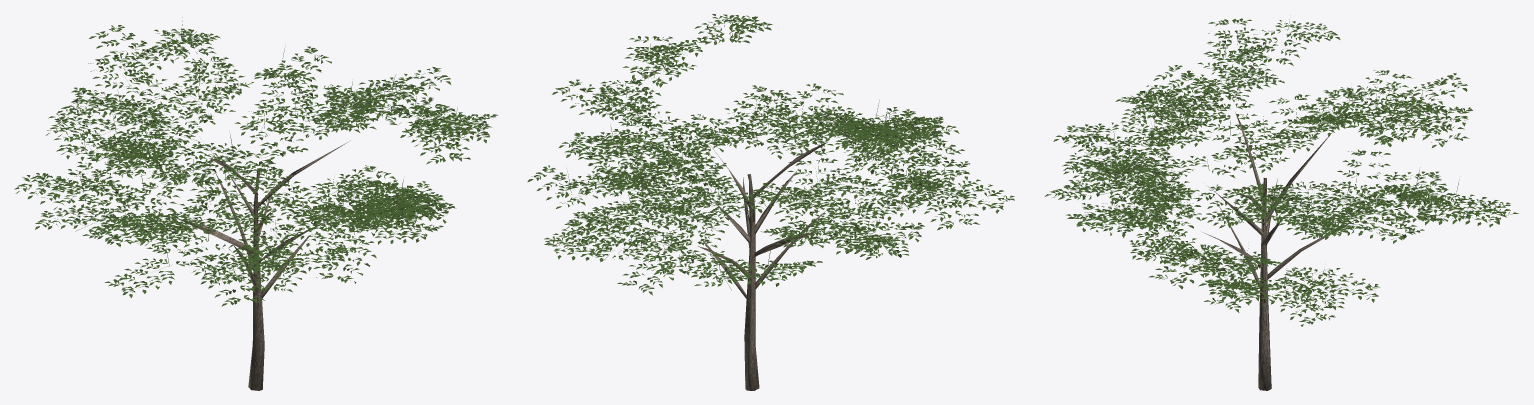
File: koelreuteria-4.glb
The picture shows the model from 3 angles, left to right: view 1: azimuth 30°, elevation 25°; view 2: azimuth 150°, elevation 25°; view 3: azimuth 270°, elevation 25°; orthographic projection. The views are drawn at different scales.
Visible parts, largest first — view 1: leaf, leaf-edge, bark, leaf-back, stem; view 2: leaf, leaf-edge, bark, leaf-back, stem; view 3: leaf, leaf-edge, bark, leaf-back, stem.
Boxes of the visible parts, left/top/right/bottom form: leaf: left=15, top=25, right=498, bottom=306; leaf-edge: left=14, top=25, right=496, bottom=304; bark: left=179, top=134, right=350, bottom=390; leaf-back: left=60, top=31, right=487, bottom=288; stem: left=80, top=17, right=457, bottom=268; leaf: left=528, top=14, right=1014, bottom=295; leaf-edge: left=527, top=14, right=1009, bottom=287; bark: left=697, top=135, right=827, bottom=390; leaf-back: left=550, top=22, right=1011, bottom=289; stem: left=566, top=23, right=950, bottom=272; leaf: left=1045, top=18, right=1518, bottom=326; leaf-edge: left=1045, top=20, right=1510, bottom=323; bark: left=1203, top=112, right=1356, bottom=390; leaf-back: left=1075, top=22, right=1518, bottom=317; stem: left=1101, top=19, right=1459, bottom=288.
Size of what is drawn, in the model's own units: 4.31 by 3.14 by 4.37.
5 materials, 4 textured.
